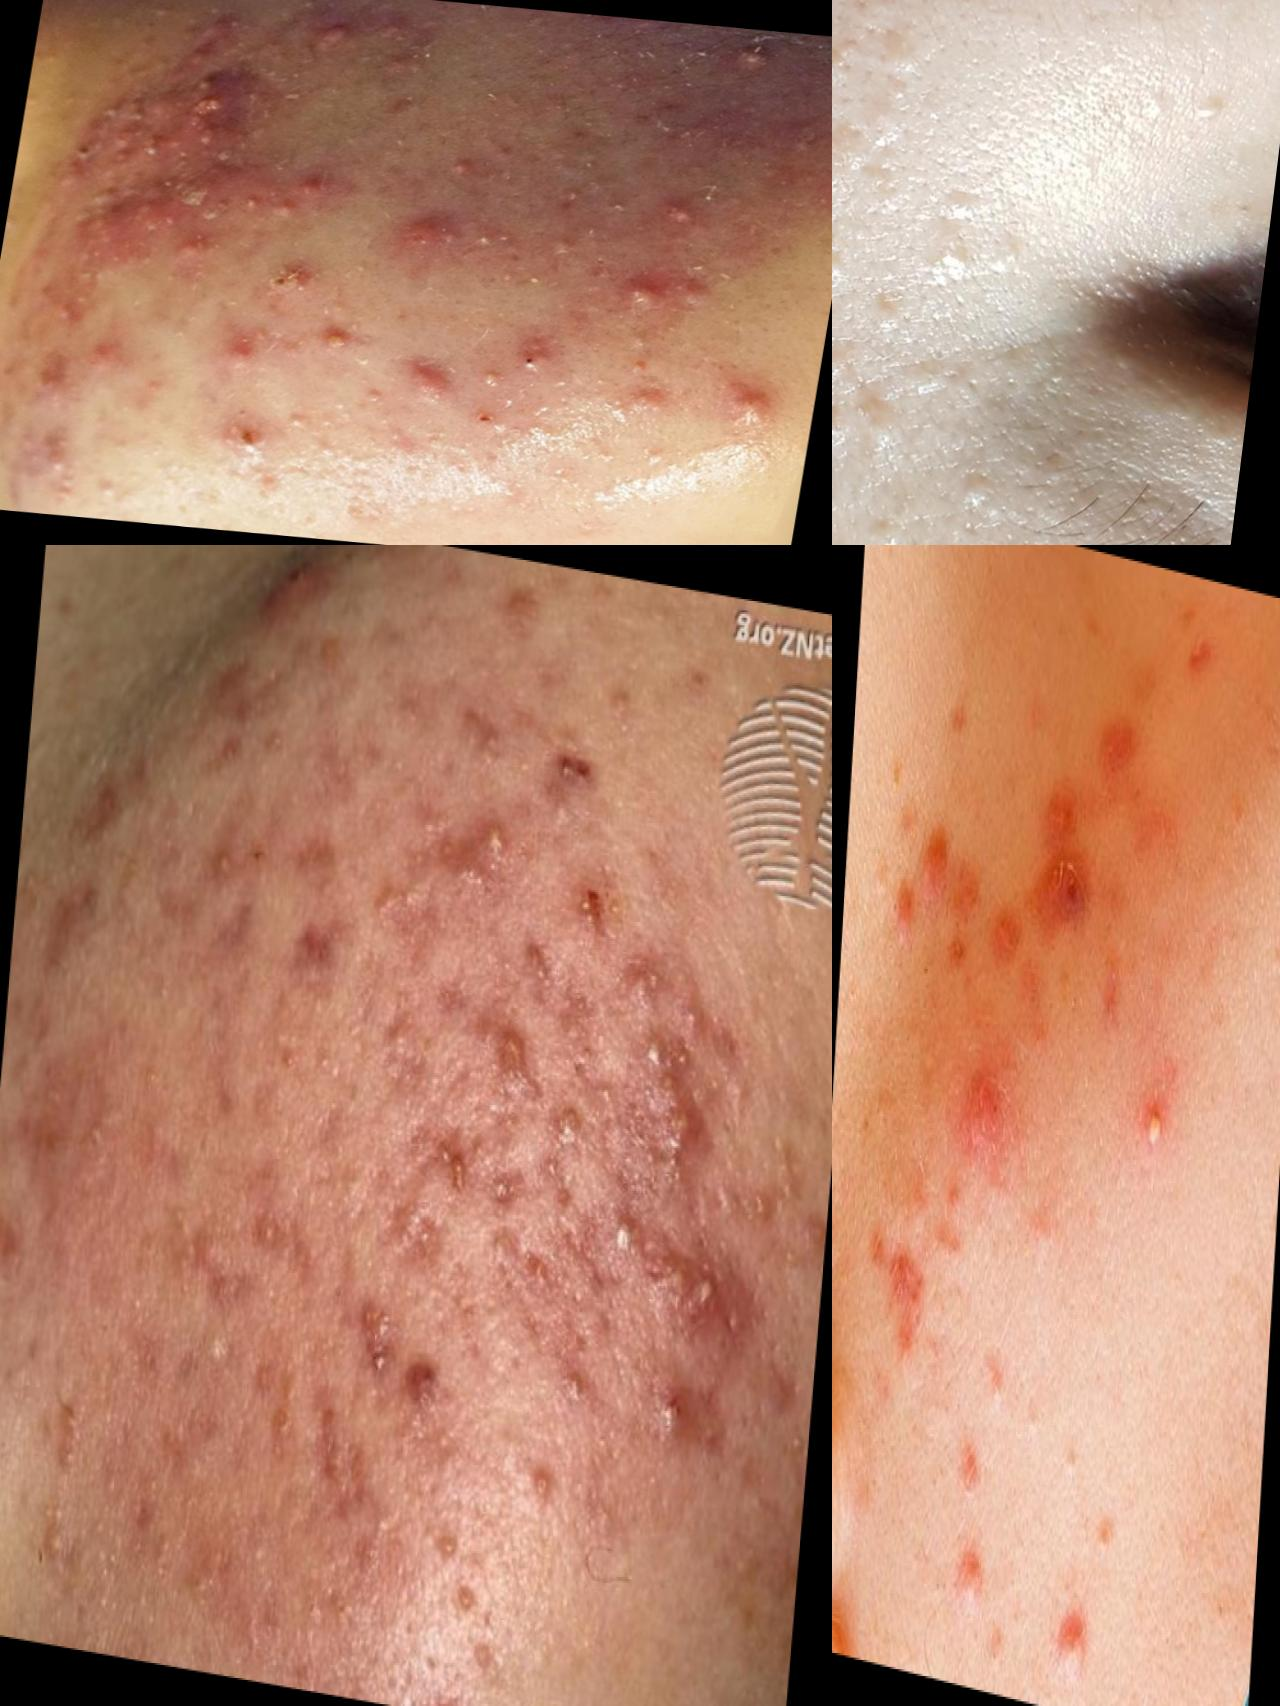acne_scars: (168, 639, 319, 743), (294, 1404, 371, 1557), (280, 895, 354, 1026), (241, 1194, 323, 1265)
blackhead: (922, 1547, 960, 1643), (1094, 1494, 1129, 1576), (972, 1615, 1008, 1693), (1021, 1393, 1047, 1453), (913, 930, 934, 999), (895, 998, 913, 1069), (922, 1455, 947, 1494)
flat_wart: (834, 389, 1016, 546), (834, 1, 969, 195), (926, 220, 1043, 307)
milium: (1176, 62, 1249, 184)
papular: (908, 1026, 1033, 1192), (859, 1214, 943, 1382), (1078, 675, 1162, 825), (360, 200, 479, 301), (1035, 828, 1107, 964), (61, 307, 145, 401), (976, 882, 1041, 1002), (649, 1365, 715, 1468), (198, 315, 282, 380), (491, 995, 536, 1114), (912, 796, 952, 902), (609, 368, 680, 414), (311, 17, 370, 65), (678, 259, 723, 311), (289, 160, 332, 204)
purulent: (604, 933, 664, 1037), (703, 368, 795, 436), (549, 1088, 614, 1174), (600, 257, 678, 323), (298, 308, 372, 371), (461, 797, 515, 874), (709, 28, 785, 81), (497, 323, 567, 378), (1128, 1084, 1175, 1163), (1051, 1584, 1086, 1684), (460, 351, 520, 401), (657, 198, 703, 233)
sebo-crystan-conglo: (34, 156, 284, 265), (113, 51, 265, 181), (618, 1235, 738, 1344), (339, 1284, 425, 1408), (645, 1020, 709, 1166), (378, 333, 463, 418), (253, 245, 333, 311), (376, 203, 477, 247)
whitehead: (22, 1369, 95, 1496), (436, 1574, 504, 1697), (30, 1500, 89, 1598), (541, 1348, 596, 1438), (506, 1447, 566, 1519), (85, 454, 147, 508), (432, 143, 489, 195), (613, 434, 675, 477), (264, 403, 331, 440), (22, 442, 82, 480), (371, 419, 429, 458), (350, 382, 403, 422), (151, 457, 206, 492), (508, 257, 559, 294), (627, 436, 676, 473), (573, 440, 625, 471), (471, 222, 506, 255), (600, 192, 633, 220)
